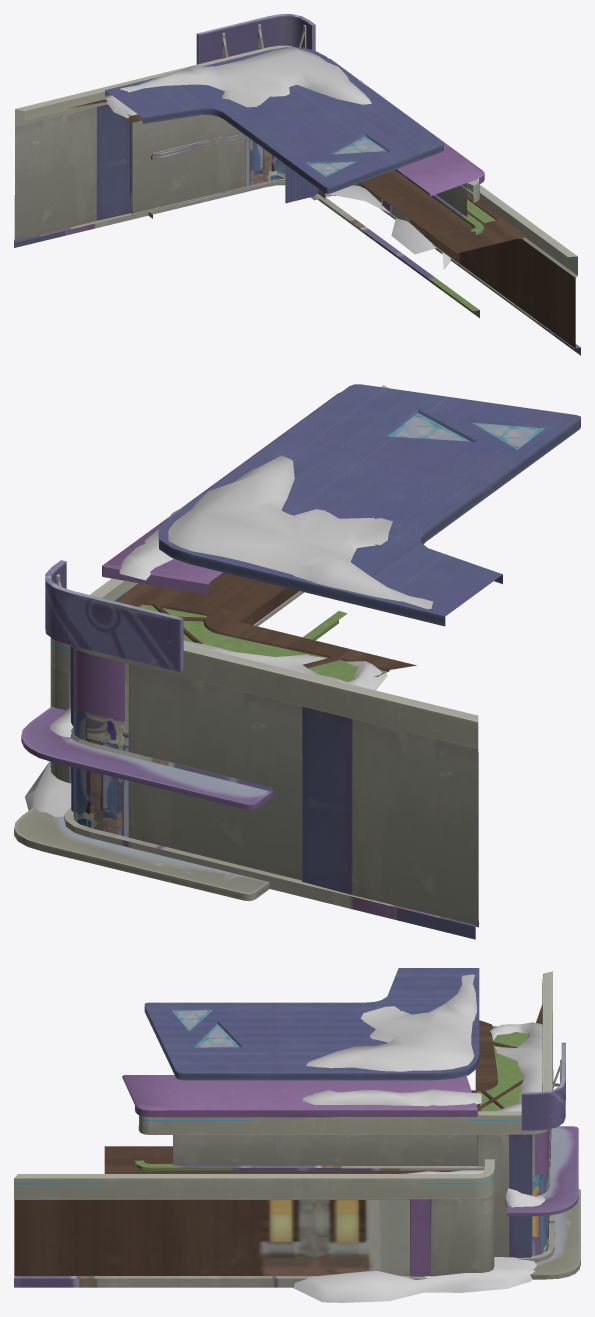
File: pref_sm_city_shop09_snow_lv3.fbx
The picture shows the model from 3 angles, top to bottom: view 1: azimuth 30°, elevation 25°; view 2: azimuth 150°, elevation 25°; view 3: azimuth 270°, elevation 25°; orthographic projection. The views are drawn at different scales.
Parts seen in each view (by area): view 1: sm_city_shop09_snow_lv3, sm_city_shop09b_snow_lv3; view 2: sm_city_shop09_snow_lv3, sm_city_shop09b_snow_lv3; view 3: sm_city_shop09_snow_lv3, sm_city_shop09b_snow_lv3.
Part boxes in pixels (x1,y1,x2,y2): sm_city_shop09_snow_lv3: [14, 14, 580, 355]; sm_city_shop09b_snow_lv3: [105, 47, 450, 269]; sm_city_shop09_snow_lv3: [14, 384, 580, 939]; sm_city_shop09b_snow_lv3: [25, 455, 433, 816]; sm_city_shop09_snow_lv3: [14, 968, 580, 1287]; sm_city_shop09b_snow_lv3: [293, 974, 545, 1302].
Bounding box in the file's own units: 19.35 × 9.78 × 25.74.
